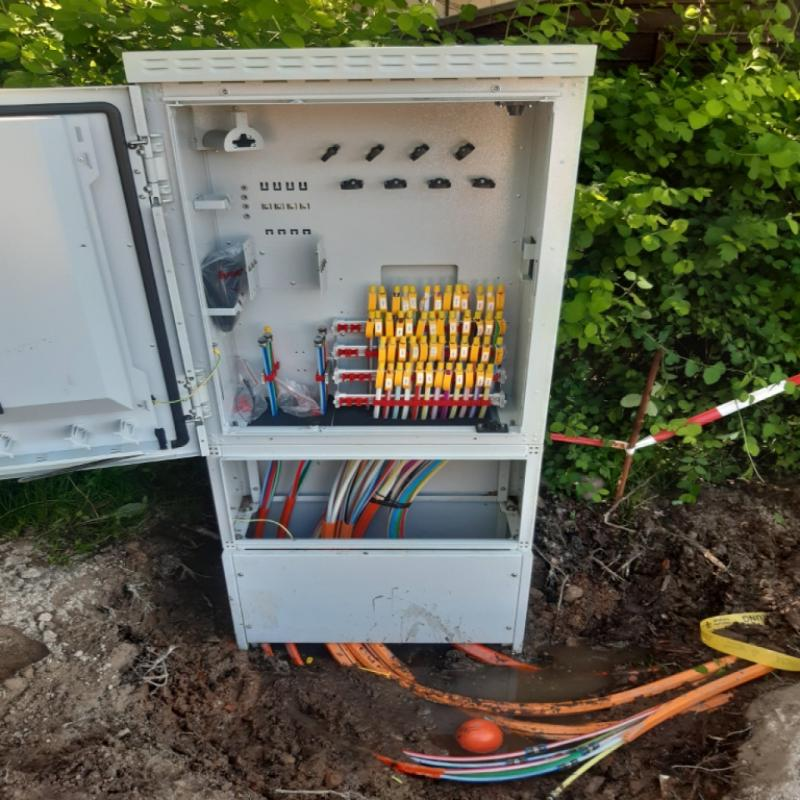Kugelmarker: (457, 719, 502, 752)
NT-Gehause: (0, 50, 587, 602)
Orang-Speednetrohrchen: (505, 664, 775, 779), (402, 656, 732, 714)
